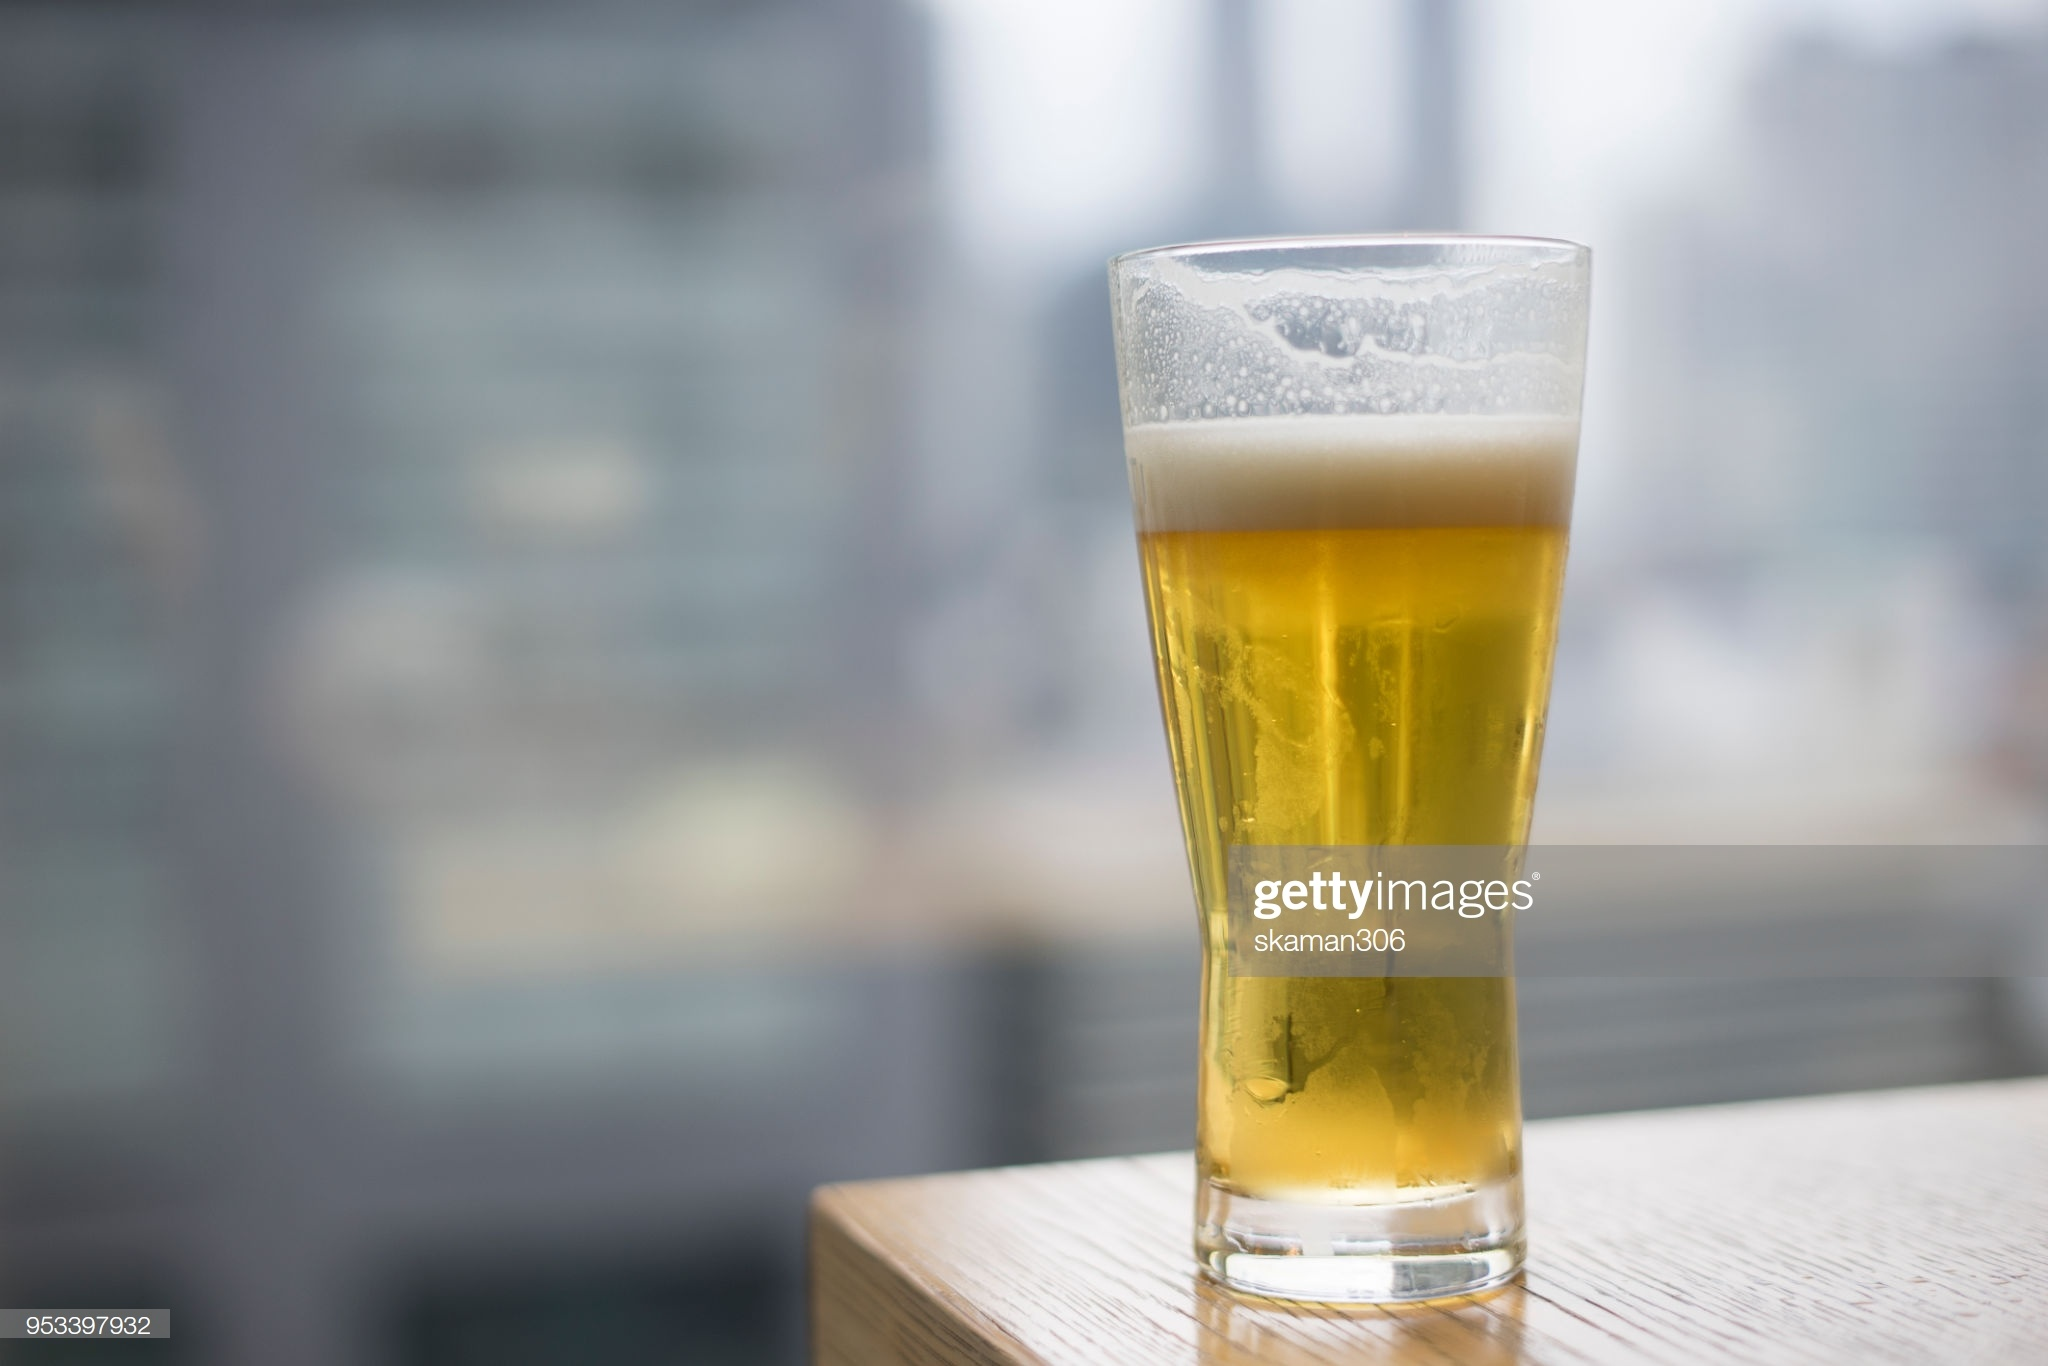glassBeer: (1144, 244, 1585, 1255)
